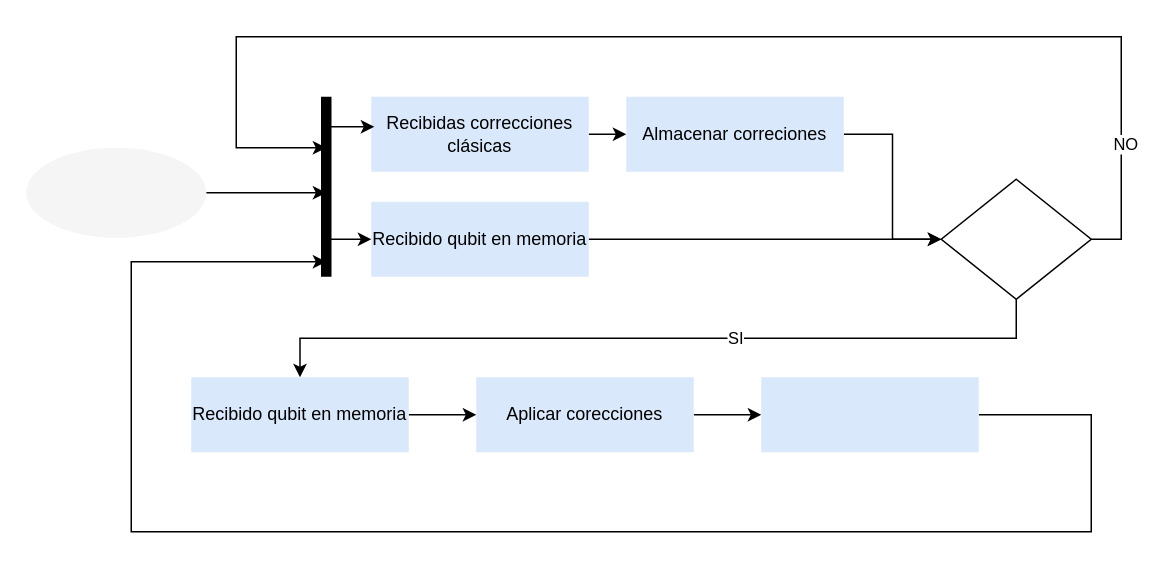
Image size: 1163x570. Some labels were removed from this diagram. Here are the shapes that lost their labels. From the top down, the box of each, then its label:
(26, 147, 206, 237): Inicio de simulación
(940, 178, 1091, 299): Correcciones recibidas y qubit en memoria?
(760, 376, 978, 452): Enviar señal SUCCESS a protocolo de teleportación
